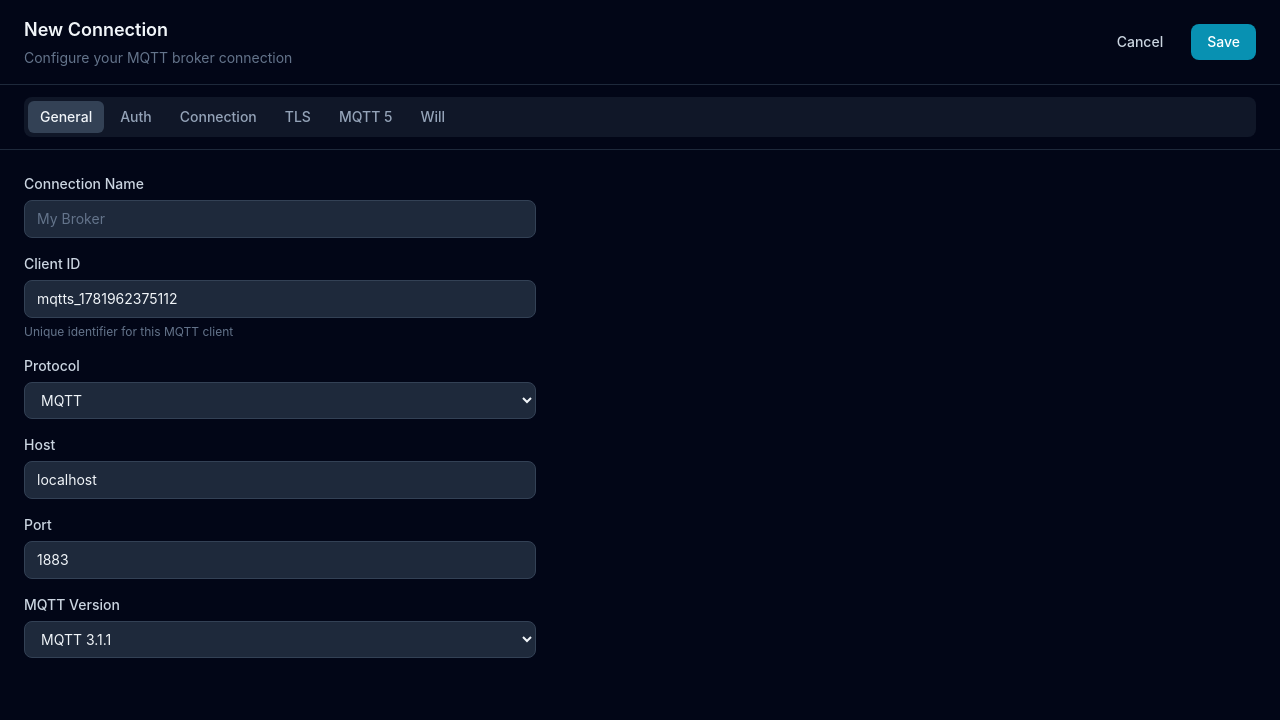
Test case: ConnectionForm › switches tabs
The width and height of the screenshot is (1280, 720).
Click the button "Auth" at (136, 117), box [108,101,164,133]
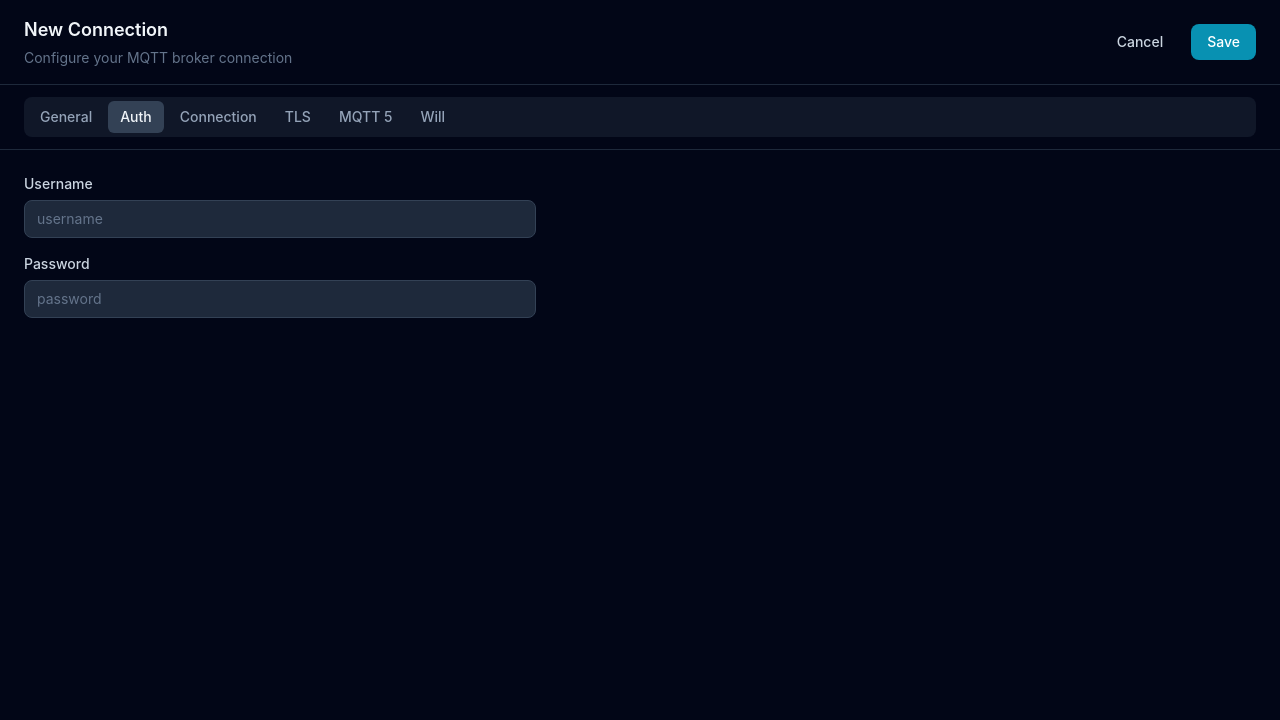
Now the text "Username" is shown, box [24,175,93,192]
Now the text "Password" is shown, box [24,255,90,272]
Click the button "Connection" at (218, 117), box [168,101,269,133]
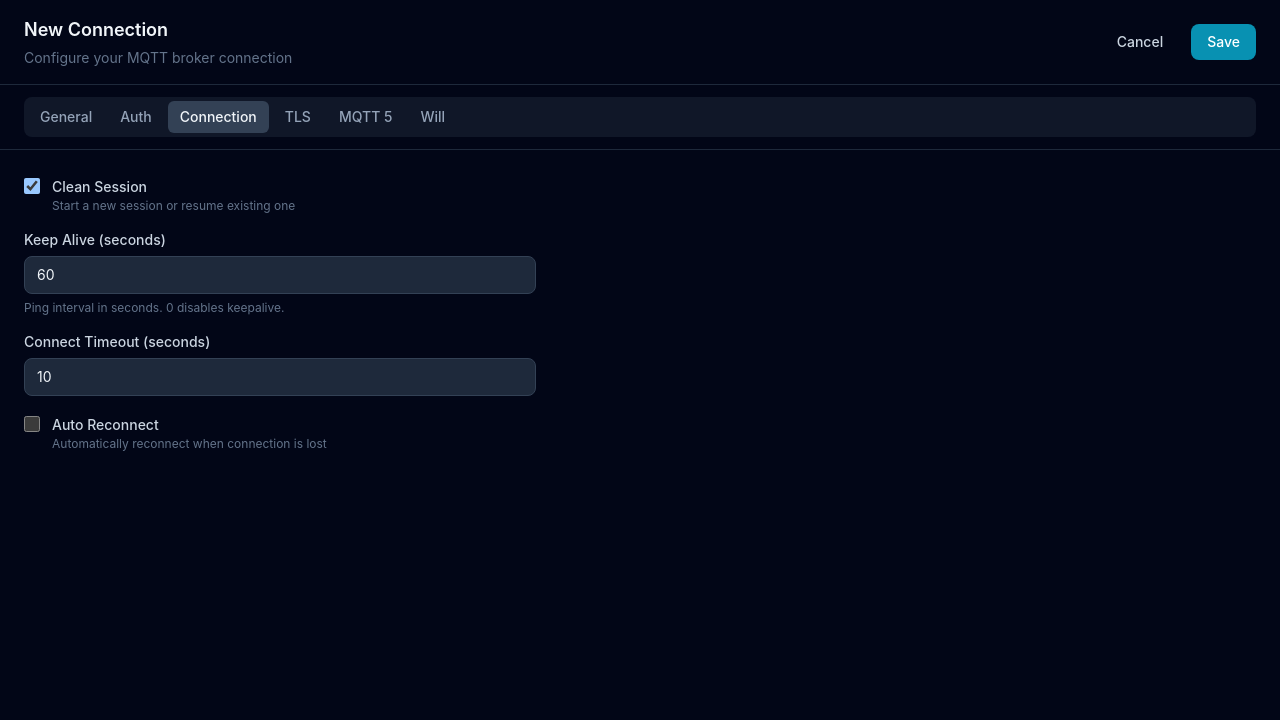
Now the text "Keep Alive (seconds)" is shown, box [24,231,166,248]
Click the button "TLS" at (298, 117), box [273,101,323,133]
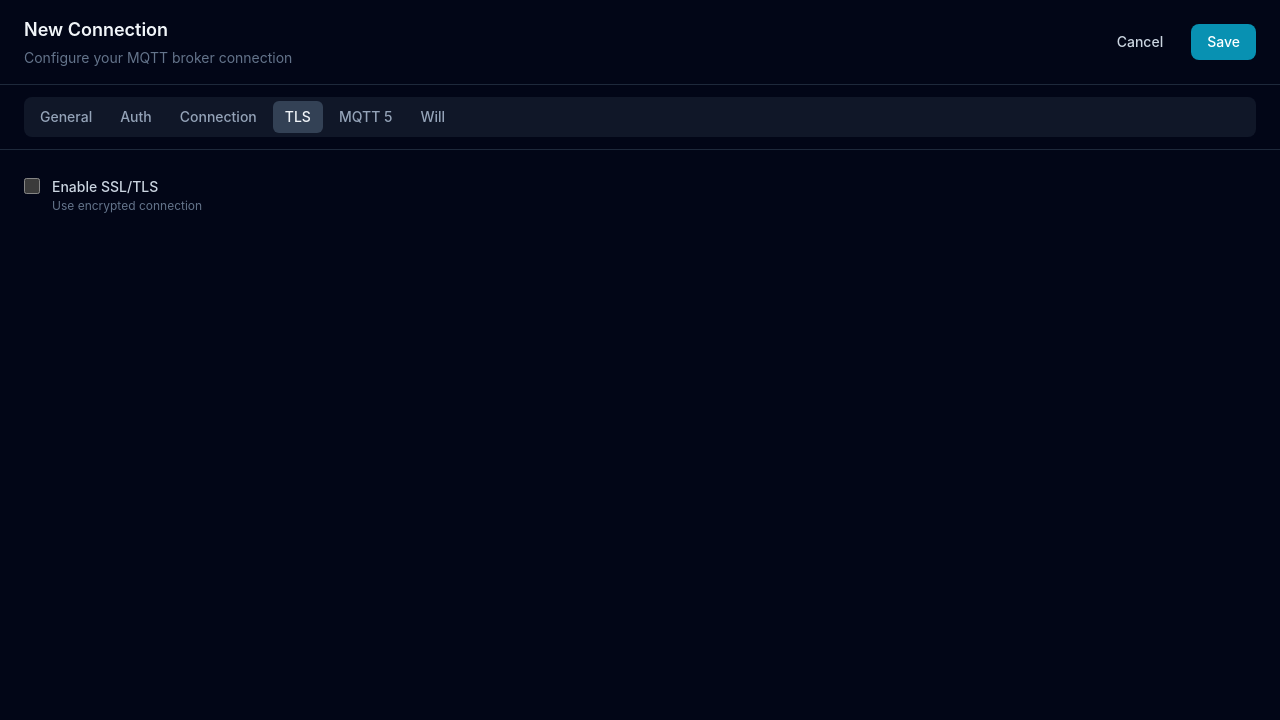
Now the text "Enable SSL/TLS" is shown, box [52,178,158,195]
